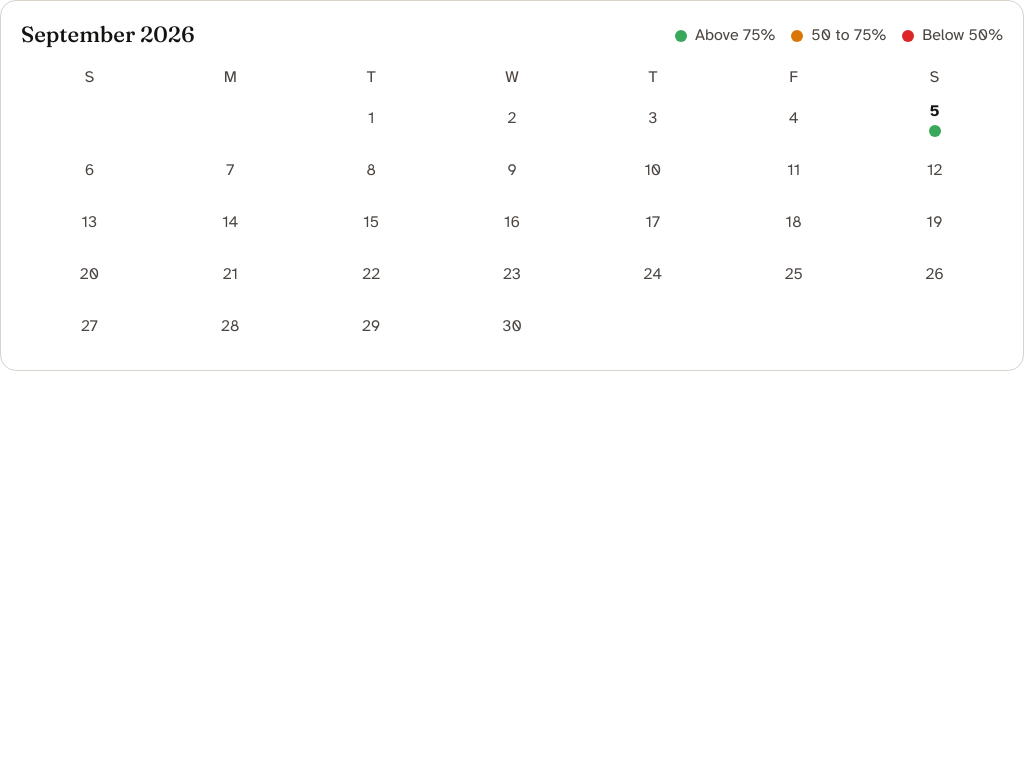
Scenario: SessionCalendar › shows a coloured dot only for days with data, and opens a detail panel on tap
The image size is (1024, 768).
Click the button "5" at (935, 118), box [866,94,1003,142]
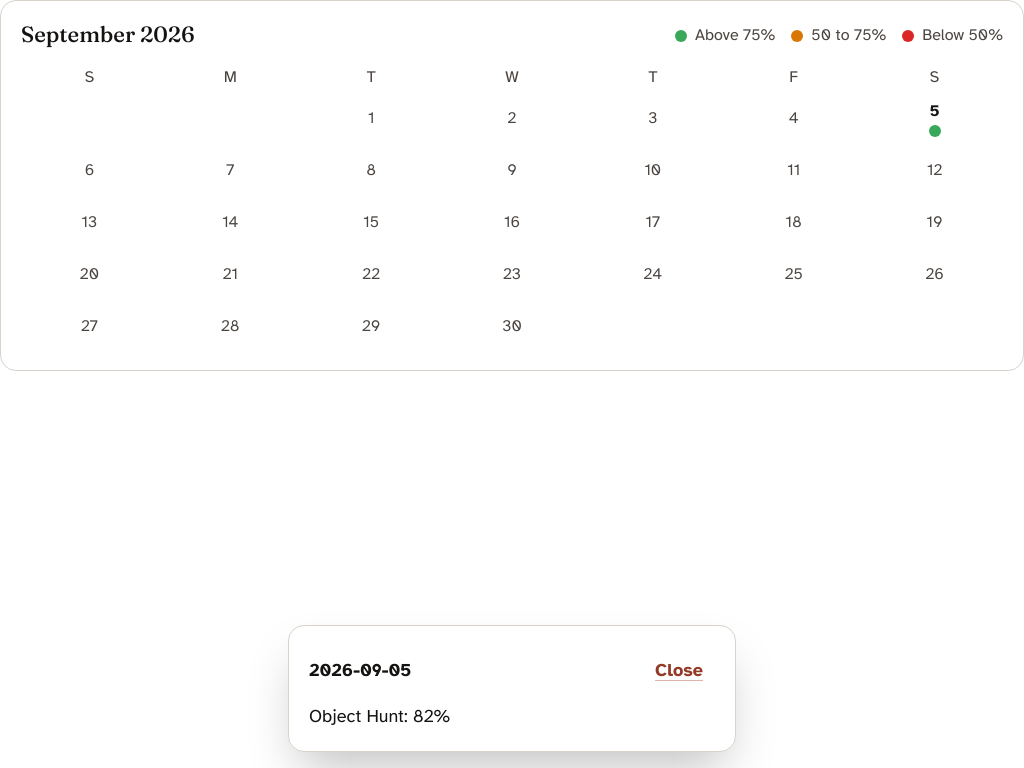
Result: the dialog named "details for 2026-09-05" is shown at [288,625,736,752]
Result: the text "Object Hunt: 82%" is shown at [309,705,450,727]
